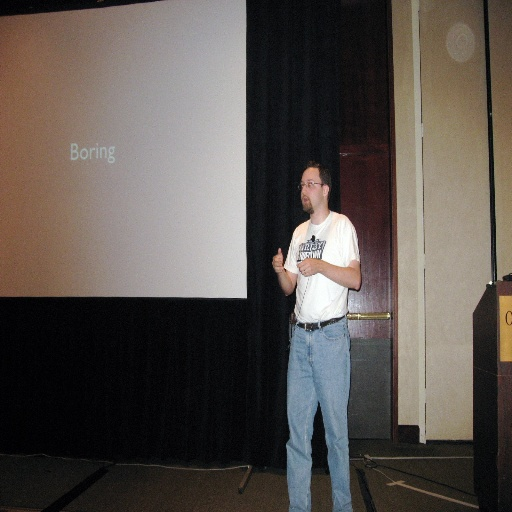hand: (296, 256, 317, 279), (270, 245, 285, 273)
